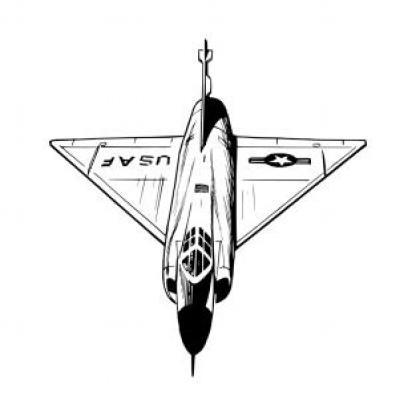CIV_Plane: (31, 40, 367, 392)
